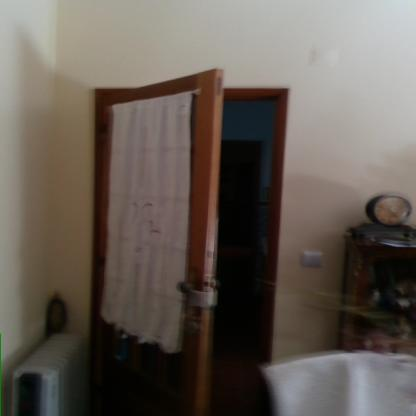semi: (81, 62, 299, 416)
